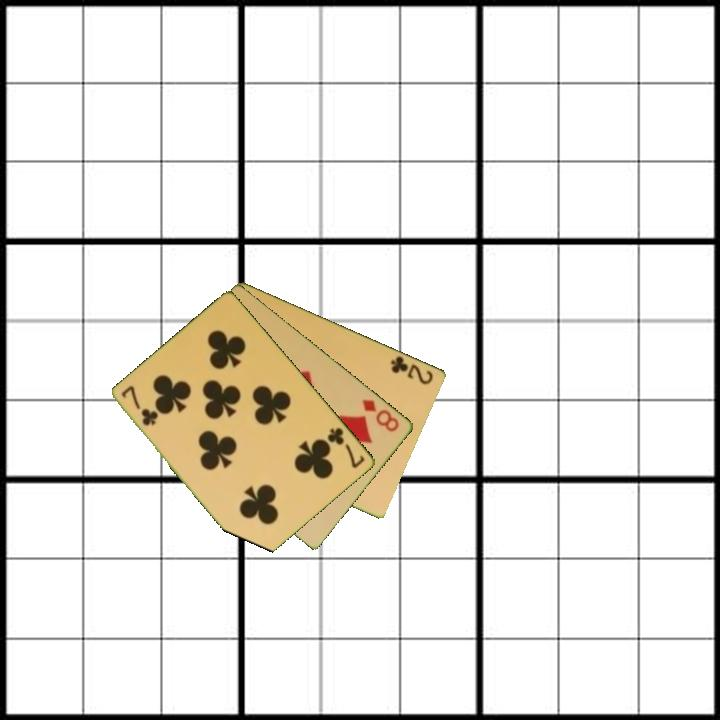2c: (387, 352, 436, 387)
7c: (324, 424, 368, 471), (118, 382, 161, 429)
8d: (359, 395, 403, 435)
